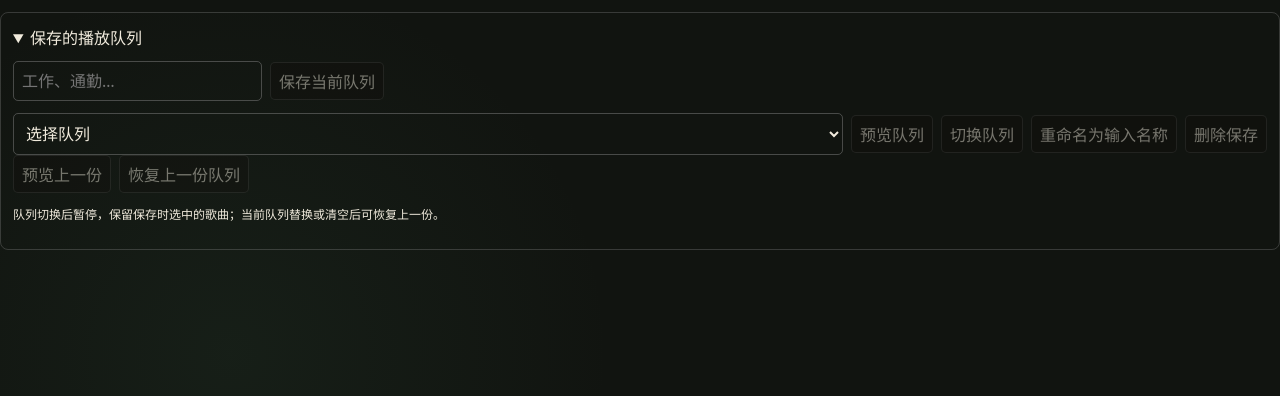
Scenario: 保存队列并明确标出同名更新，不启动播放
Type "通勤" into the field named "队列名称" at (138, 81), box [13, 61, 262, 101]
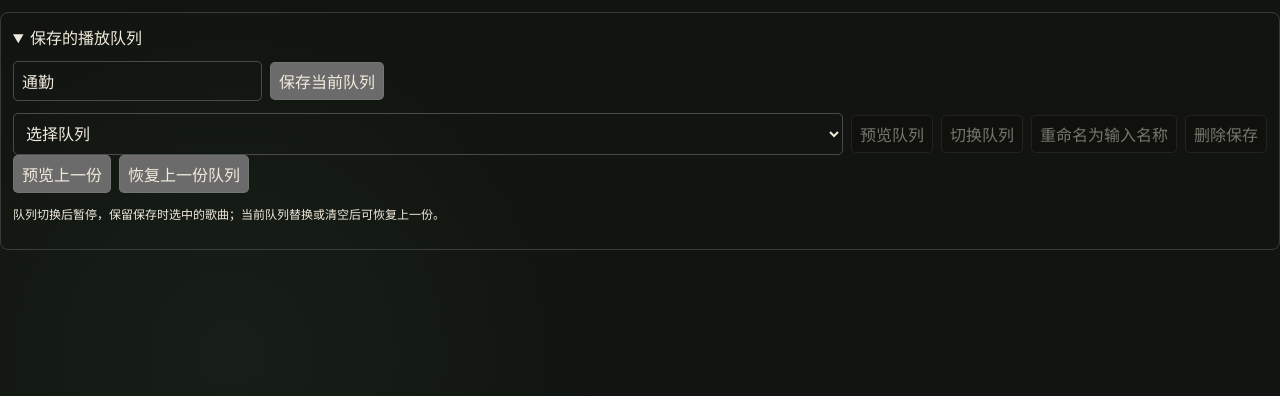
Check: the button "保存当前队列" is enabled
Click the button "保存当前队列" at (327, 81), box [270, 62, 384, 100]
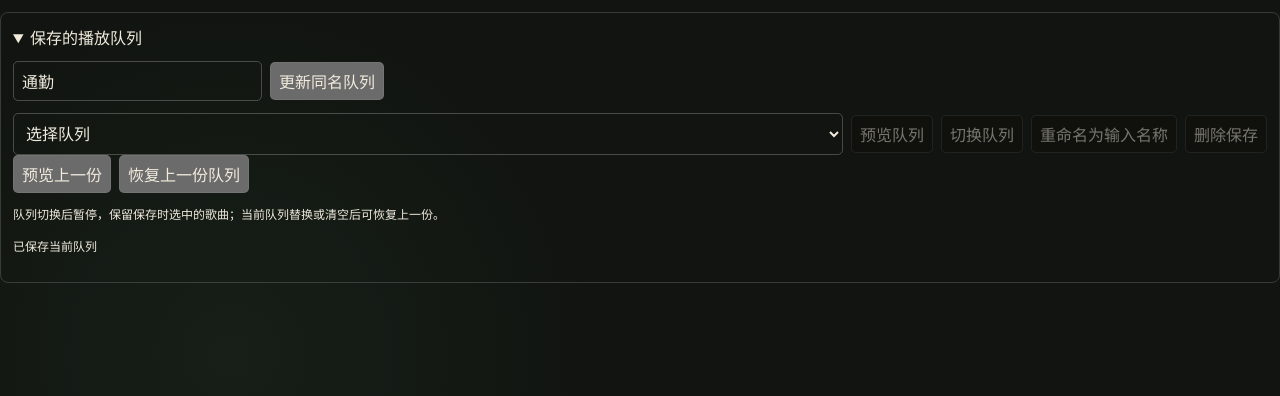
Check: the button "更新同名队列" is shown, box [270, 62, 384, 100]
